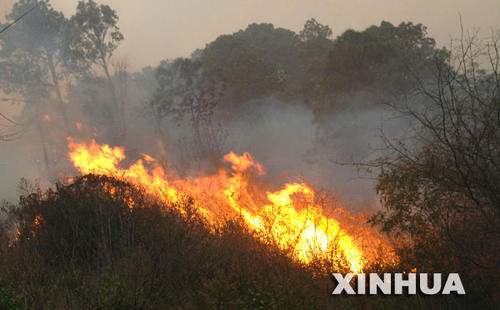fire: (218, 175, 356, 253)
